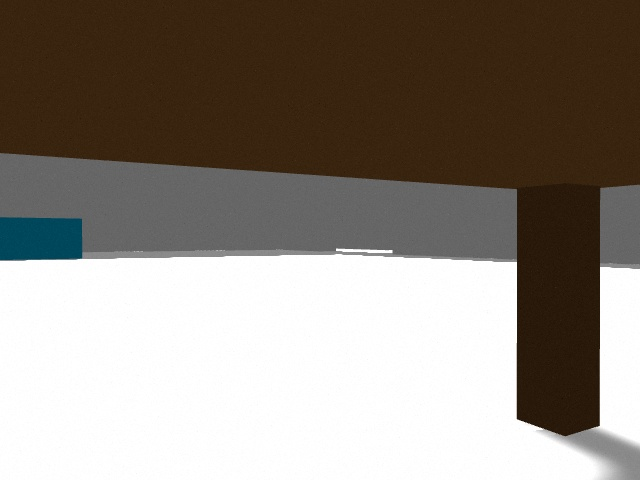blue_drop_zone: (0, 217, 82, 260)
